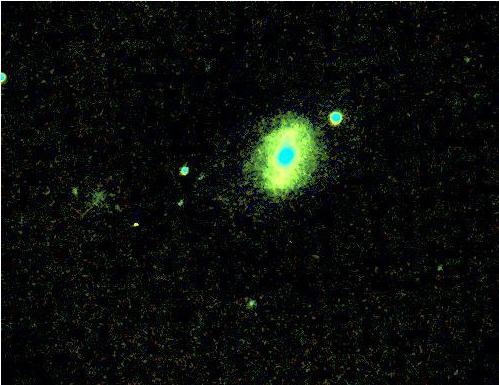star: (123, 209, 153, 239)
